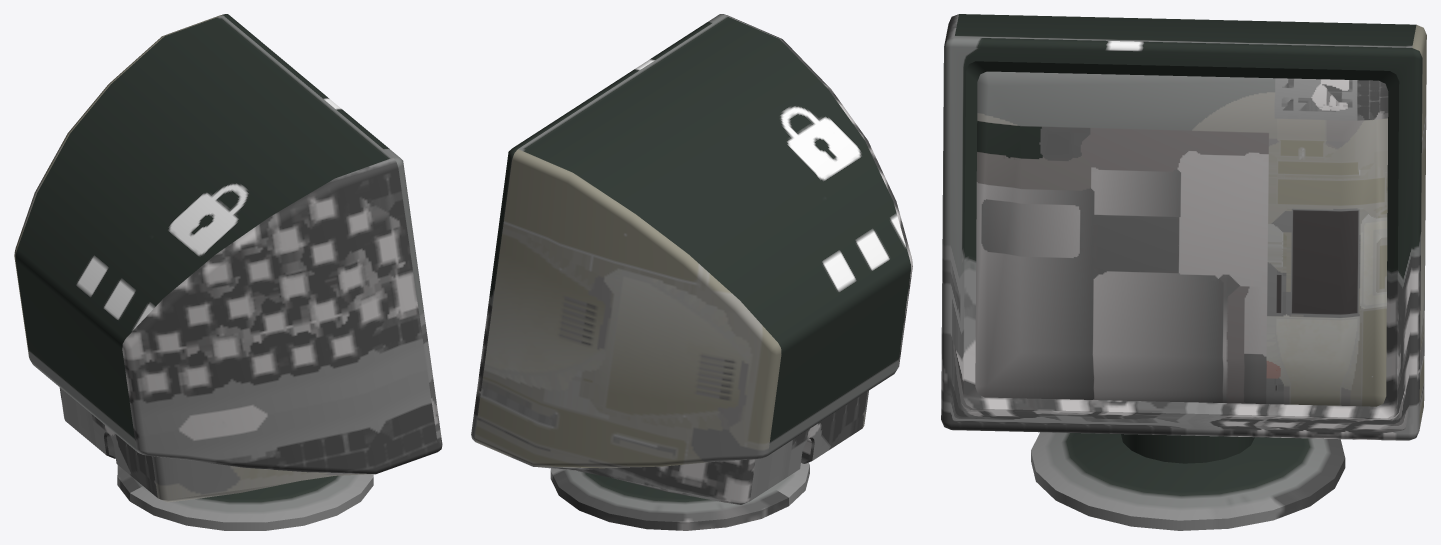
Rendered from SM_Prop_Stage2_Monitor.fbx.
3 renders of one model, left to right at view 1: azimuth 30°, elevation 25°; view 2: azimuth 150°, elevation 25°; view 3: azimuth 270°, elevation 25°, orthographic. The views are drawn at different scales.
Parts seen in each view (by area): view 1: SM_Prop_Stage2_Monitor; view 2: SM_Prop_Stage2_Monitor; view 3: SM_Prop_Stage2_Monitor.
Boxes of the visible parts, bbox=[...] form: SM_Prop_Stage2_Monitor: bbox=[14, 14, 442, 530]; SM_Prop_Stage2_Monitor: bbox=[471, 14, 912, 530]; SM_Prop_Stage2_Monitor: bbox=[941, 14, 1426, 530].
Bounding box in the file's own units: 47.61 × 58.42 × 56.16.
